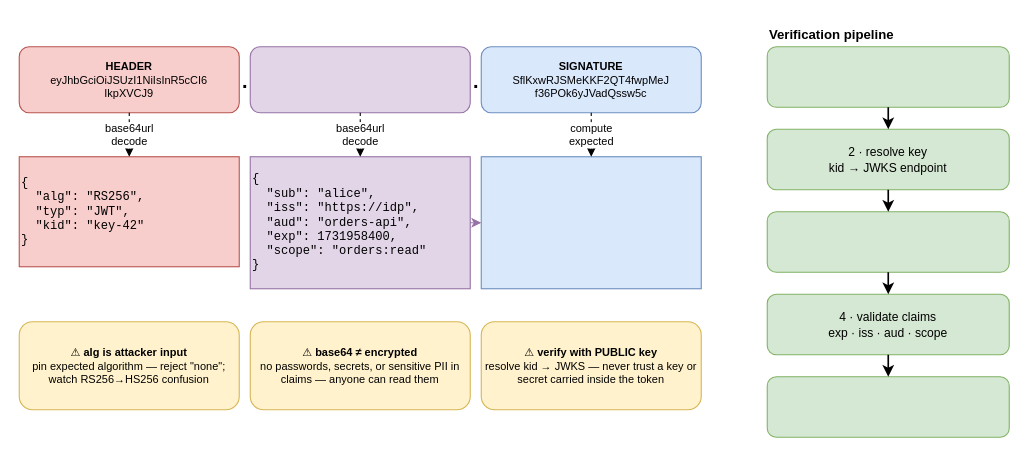
Some shapes in this 1029 by 457 pixel diagram are drawn without their labels. Here are the shapes that lost their labels. From the top down, the centre of each, then its label:
pixel 359 79: PAYLOAD eyJzdWIiOiJhbGljZSIsImlzcyI6 Imh0dHBzOi8vaWRwIiwiZXhwIjox
pixel 887 76: 1 · pin expected alg ignore the token's claim
pixel 590 222: RS256( base64(header) + "." + base64(payload), PRIVATE key )
pixel 887 241: 3 · verify signature crypto check, not string match
pixel 887 406: 5 · only then trust identity
